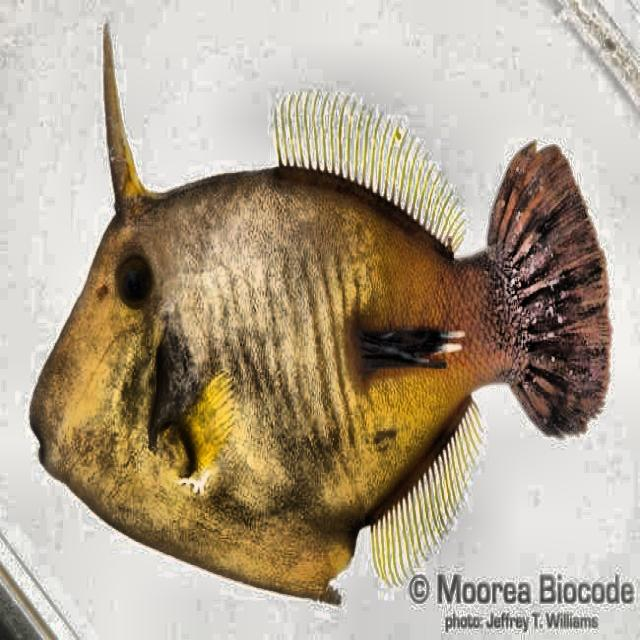fish: (28, 23, 612, 606)
